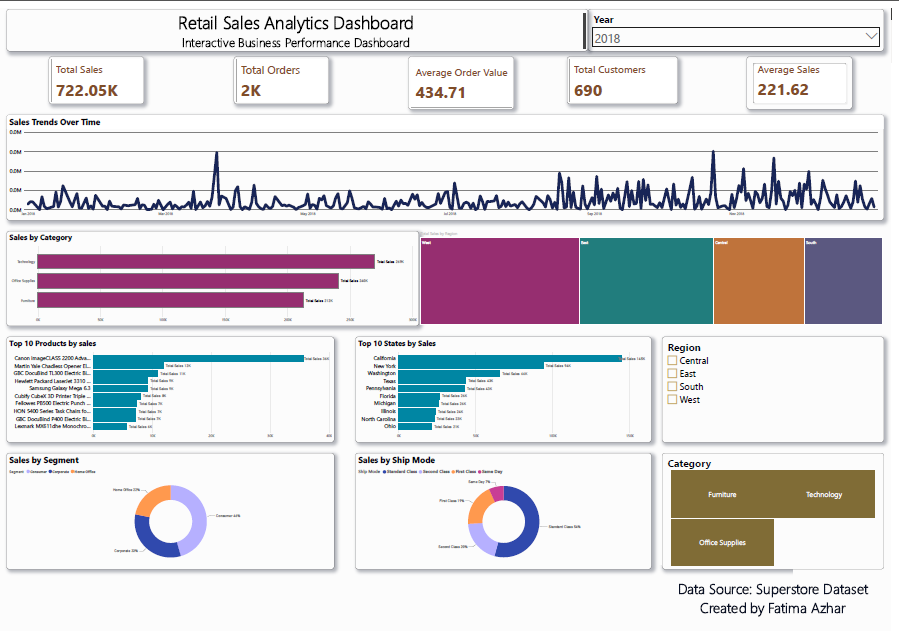

The page's visual inventory and layout, read from the dashboard file:
{"tool":"powerbi","page":{"name":"Page 1","canvas":[2709,1880],"ordinal":0},"visuals":[{"type":"cardVisual","fields":{"Data":["retail_sales_cleaned (2).Total Sales"]},"box":[160,144,288,144],"z":0},{"type":"cardVisual","fields":{"Data":["retail_sales_cleaned (2).Total Orders"]},"box":[720,144,288,144],"z":1000},{"type":"cardVisual","fields":{"Data":["retail_sales_cleaned (2).Total Customers"]},"box":[1728,144,336,144],"z":2000},{"type":"lineChart","title":"Sales Trends Over Time","fields":{"Category":["retail_sales_cleaned (2).Order Date"],"Y":["retail_sales_cleaned (2).Total Sales"]},"box":[32,320,2656,320],"z":4000},{"type":"clusteredBarChart","title":"Sales by Category","fields":{"Category":["retail_sales_cleaned (2).Category"],"Y":["retail_sales_cleaned (2).Total Sales"]},"box":[32,672,1248,288],"z":4001},{"type":"cardVisual","fields":{"Data":["retail_sales_cleaned (2).Average Sales"]},"box":[2272,144,320,160],"z":4003},{"type":"clusteredBarChart","title":"Top 10 Products by sales","fields":{"Category":["retail_sales_cleaned (2).Product Name"],"Y":["retail_sales_cleaned (2).Total Sales"]},"box":[32,992,992,320],"z":4004},{"type":"clusteredBarChart","title":"Top 10 States by Sales","fields":{"Category":["retail_sales_cleaned (2).State"],"Y":["retail_sales_cleaned (2).Total Sales"]},"box":[1088,992,896,320],"z":4005},{"type":"donutChart","title":"Sales by Segment","fields":{"Category":["retail_sales_cleaned (2).Segment"],"Y":["retail_sales_cleaned (2).Total Sales"]},"box":[32,1344,992,352],"z":4006},{"type":"donutChart","title":"Sales by Ship Mode","fields":{"Category":["retail_sales_cleaned (2).Ship Mode"],"Y":["retail_sales_cleaned (2).Total Sales"]},"box":[1088,1344,896,352],"z":4007},{"type":"slicer","fields":{"Values":["retail_sales_cleaned (2).Year"]},"box":[1792,0,896,128],"z":4008},{"type":"slicer","fields":{"Values":["retail_sales_cleaned (2).Region"]},"box":[2016,992,672,320],"z":4009},{"type":"slicer","fields":{"Values":["retail_sales_cleaned (2).Category"]},"box":[2016,1344,672,352],"z":4010},{"type":"textbox","box":[32,0,1760,128],"z":4011},{"type":"treemap","fields":{"Group":["retail_sales_cleaned (2).Region"],"Values":["retail_sales_cleaned (2).Total Sales"]},"box":[1280,672,1408,288],"z":4012},{"type":"cardVisual","fields":{"Data":["retail_sales_cleaned (2).Average Order Value"]},"box":[1248,144,320,160],"z":4013},{"type":"textbox","box":[2016,1720,672,160],"z":4014}]}

Visuals, with their boxes in screenshot pixels (x1, y1, x2, y2), scaled from the page's 2709x1880 canvas onto the 899x635 screenshot:
cardVisual - retail_sales_cleaned (2).Total Sales: [53,49,149,97]
cardVisual - retail_sales_cleaned (2).Total Orders: [239,49,335,97]
cardVisual - retail_sales_cleaned (2).Total Customers: [573,49,685,97]
"Sales Trends Over Time" lineChart: [11,108,892,216]
"Sales by Category" clusteredBarChart: [11,227,425,324]
cardVisual - retail_sales_cleaned (2).Average Sales: [754,49,860,103]
"Top 10 Products by sales" clusteredBarChart: [11,335,340,443]
"Top 10 States by Sales" clusteredBarChart: [361,335,658,443]
"Sales by Segment" donutChart: [11,454,340,573]
"Sales by Ship Mode" donutChart: [361,454,658,573]
slicer - retail_sales_cleaned (2).Year: [595,0,892,43]
slicer - retail_sales_cleaned (2).Region: [669,335,892,443]
slicer - retail_sales_cleaned (2).Category: [669,454,892,573]
textbox: [11,0,595,43]
treemap - retail_sales_cleaned (2).Region x retail_sales_cleaned (2).Total Sales: [425,227,892,324]
cardVisual - retail_sales_cleaned (2).Average Order Value: [414,49,520,103]
textbox: [669,581,892,634]
